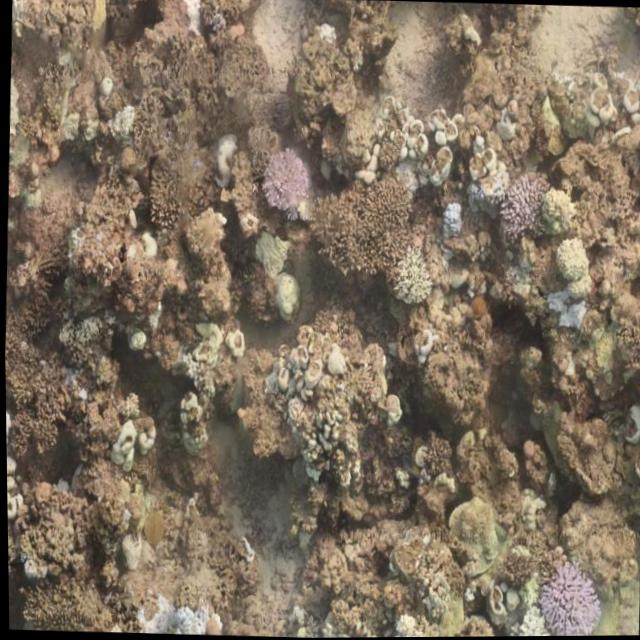Bleached Coral: (381, 244, 439, 310), (551, 238, 595, 281), (538, 179, 576, 228), (509, 603, 548, 637)
Healthy Coral: (245, 138, 308, 230), (546, 561, 602, 637), (483, 170, 526, 253)
